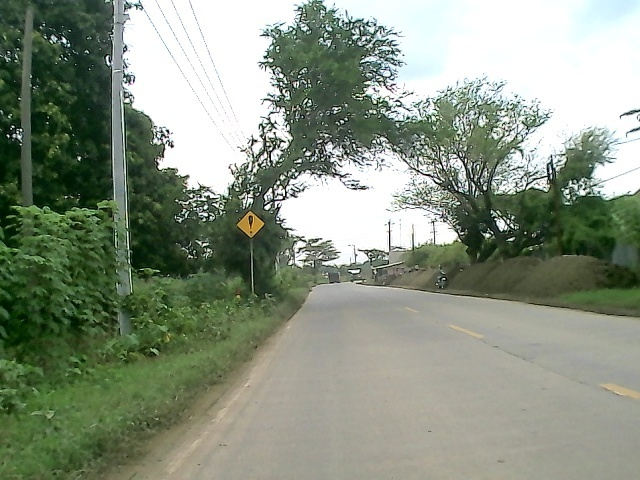Hati-hati: (235, 211, 266, 240)
